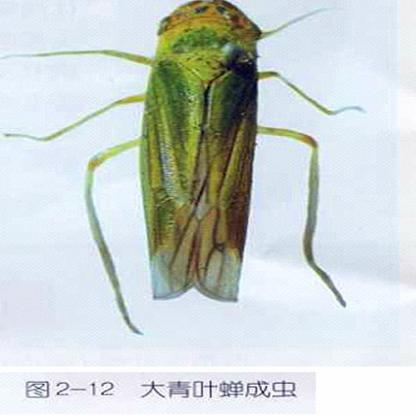Green-Leafhopper: (0, 0, 349, 337)
